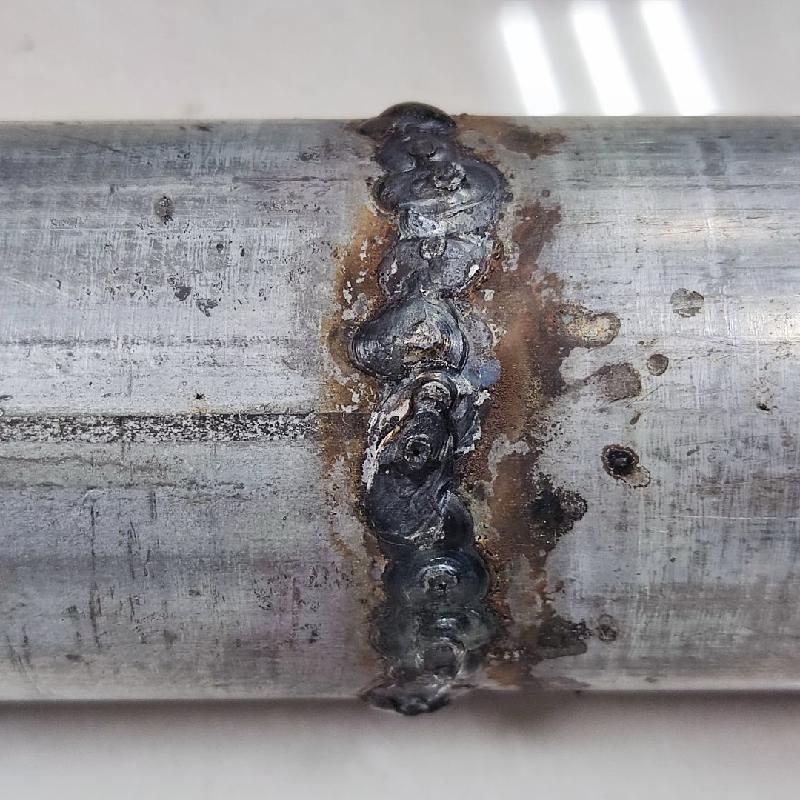Weld: (365, 99, 451, 135)
wrong_size: (385, 136, 488, 698)
